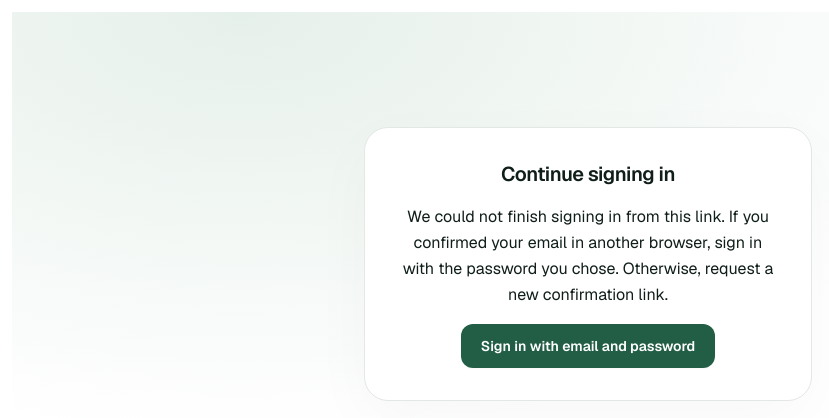
Scenario: Automated Job Loop account entry and confirmation recovery › keeps the original setup destination when a callback cannot establish a session
The image size is (829, 418).
Expected: the message shows "password you chose", [403,206,773,305]
Click the button "Sign in with email and password". click: point(588, 346)
box: [461,324,715,368]
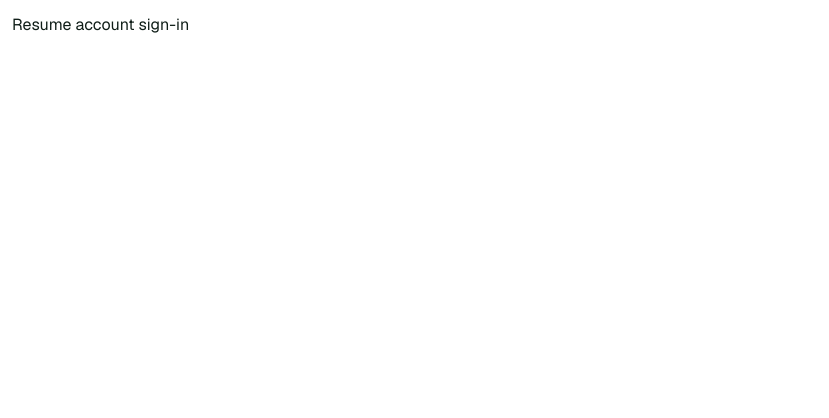
Result: the text "Resume account sign-in" is shown at [12,14,189,35]
